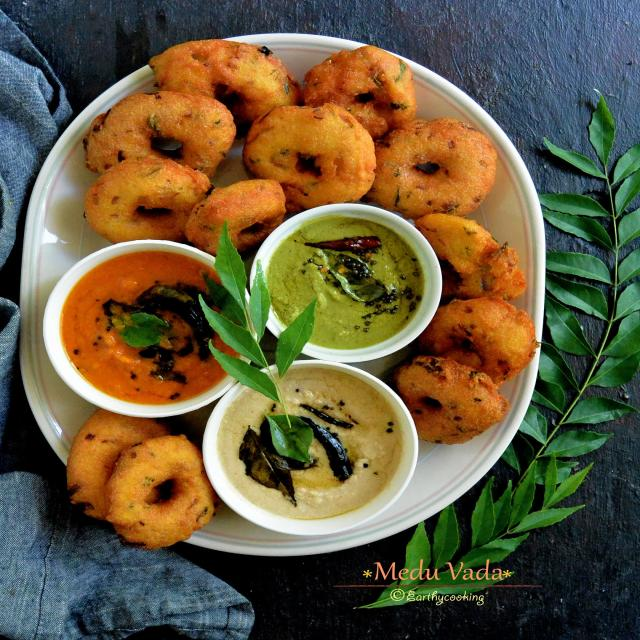GREEN CHUTNEY: (258, 219, 424, 348)
RED CHUTNEY: (57, 251, 245, 405)
VADA: (82, 40, 539, 545), (64, 403, 245, 547)
WHITE CHUTNEY: (224, 370, 397, 521)
